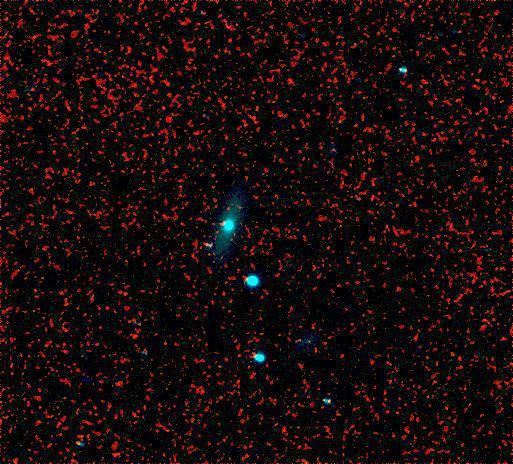star: (280, 326, 310, 356)
